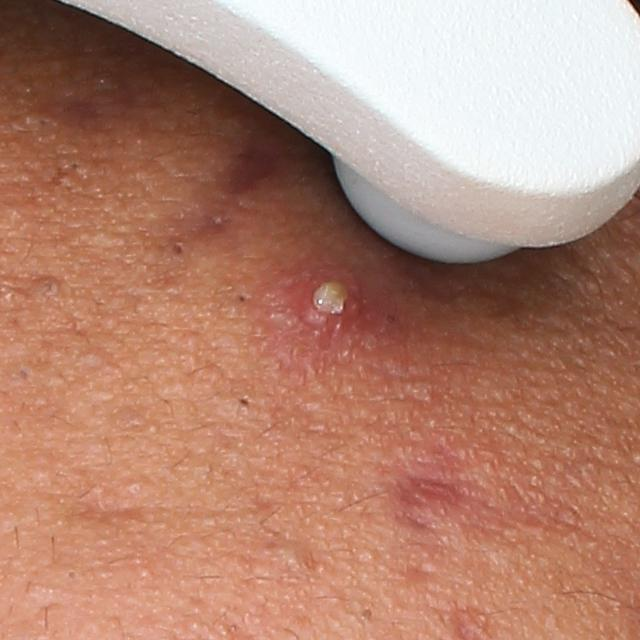atrophic_scar: (375, 438, 600, 551), (183, 145, 282, 246), (65, 495, 165, 527)
comedo: (275, 539, 317, 570), (231, 284, 253, 308), (231, 392, 253, 414), (167, 238, 190, 258), (41, 277, 61, 296), (66, 568, 78, 583)
pustule: (292, 263, 367, 343)
